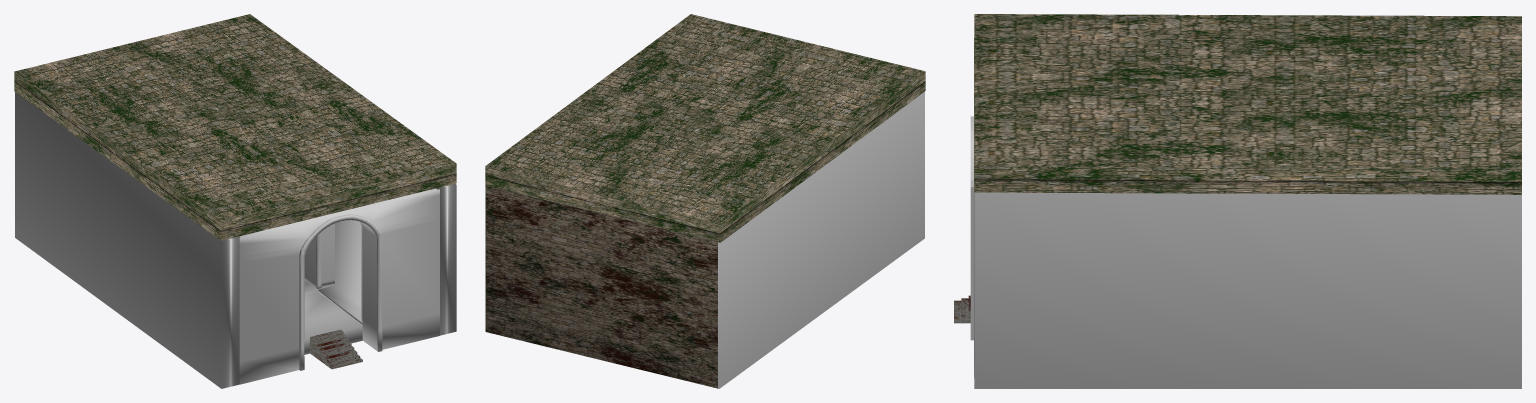
Rendered from LevelOneUpdated.fbx.
3 views of the same model, side by side, from view 1: azimuth 30°, elevation 25°; view 2: azimuth 150°, elevation 25°; view 3: azimuth 270°, elevation 25° (orthographic). The views are drawn at different scales.
Parts seen in each view (by area): view 1: ceiling, wall l, arch.001, floor 1, wall r, arch, stair entrance 1.007; view 2: ceiling, wall b, wall l; view 3: wall r, ceiling, arch.001.
Boxes of the visible parts, <box> form: ceiling: <box>14,14,456,240</box>; wall l: <box>15,92,240,388</box>; arch.001: <box>239,188,439,384</box>; floor 1: <box>304,220,362,354</box>; wall r: <box>436,183,456,335</box>; arch: <box>304,223,334,288</box>; stair entrance 1.007: <box>310,329,362,369</box>; ceiling: <box>485,14,925,242</box>; wall b: <box>485,185,717,388</box>; wall l: <box>718,92,924,388</box>; wall r: <box>974,192,1521,388</box>; ceiling: <box>974,14,1521,194</box>; arch.001: <box>970,116,974,377</box>.
Bounding box in the file's own units: 5069 × 3453 × 7976.
